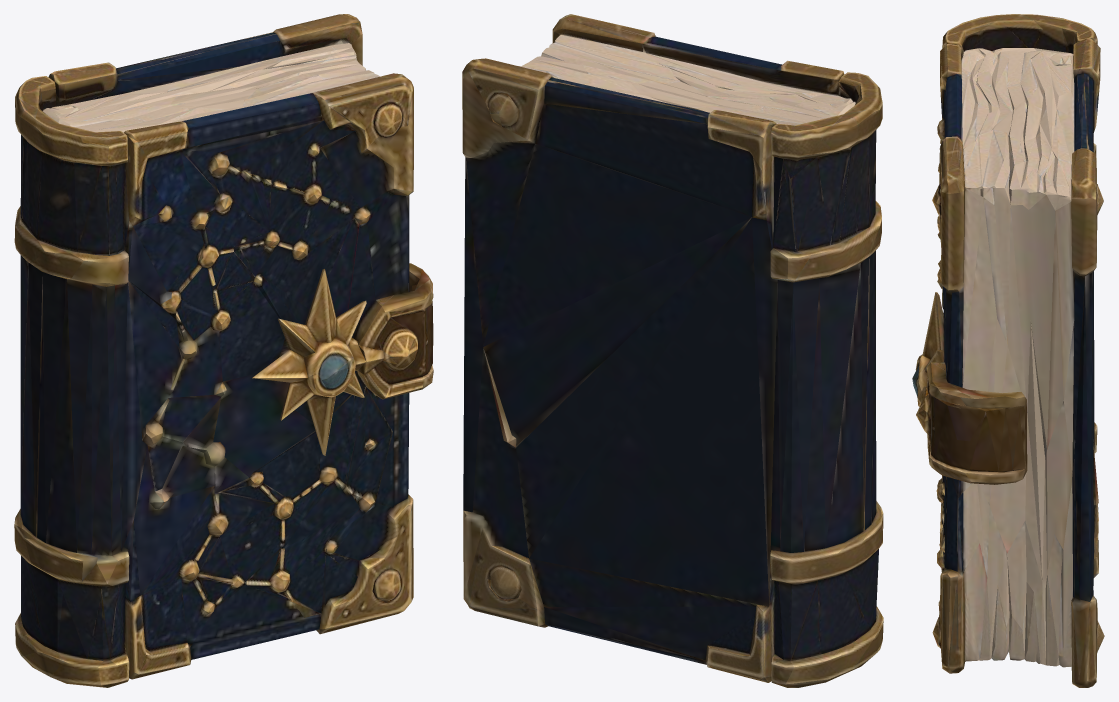
Rendered from starchart_tome.glb.
The picture shows the model from 3 angles, left to right: view 1: azimuth 30°, elevation 25°; view 2: azimuth 150°, elevation 25°; view 3: azimuth 270°, elevation 25°; orthographic projection. The views are drawn at different scales.
Bounding box in the file's own units: 0.504 × 0.7111 × 0.2396.
1 material, 1 textured.
